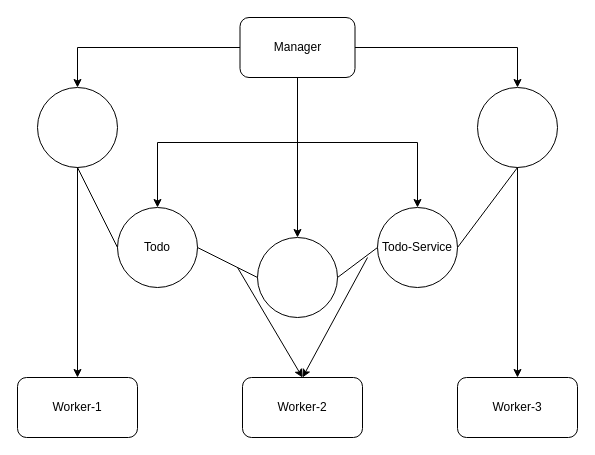
Image size: 595x455. Some labels were removed from this diagram. Here are the shapes that lost their labels. From the top down, the centre of each, then its label:
At point 77,127: "Todo-User".
At point 517,127: "Todo-Profile".
At point 297,277: "Todo-Skill".
